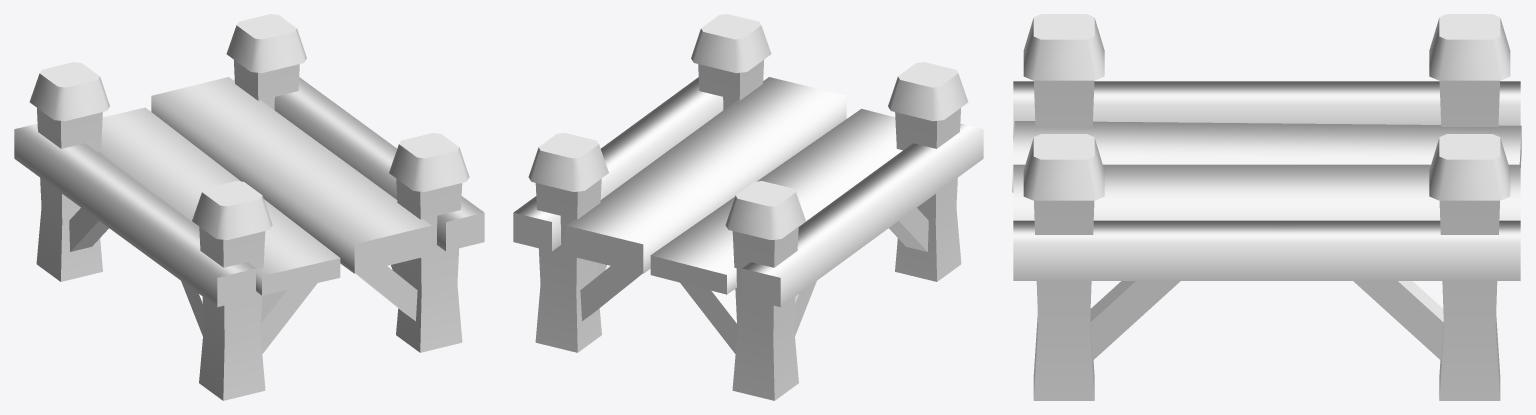
Rendered from structure-platform-dock-small.glb.
3 renders of one model, left to right at view 1: azimuth 30°, elevation 25°; view 2: azimuth 150°, elevation 25°; view 3: azimuth 270°, elevation 25°, orthographic. The views are drawn at different scales.
Visible parts, largest first — view 1: structure-platform-dock-small; view 2: structure-platform-dock-small; view 3: structure-platform-dock-small.
Part boxes in pixels (x1=…): structure-platform-dock-small: x1=14, y1=14, x2=484, y2=400; structure-platform-dock-small: x1=513, y1=14, x2=983, y2=400; structure-platform-dock-small: x1=1012, y1=14, x2=1521, y2=400.
Bounding box in the file's own units: 1.9 × 1.31 × 2.51.
Materials: 1 (1 with a texture image).
